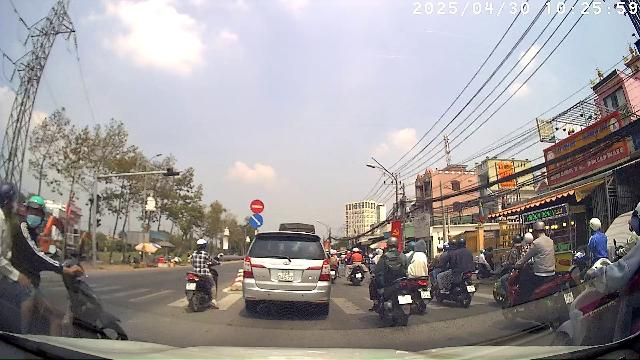102-cam-di-nguoc-chieu: (250, 199, 264, 213)
302a-huong-phai-di-vong-chuong-ngai-vat-1: (249, 214, 263, 228)
